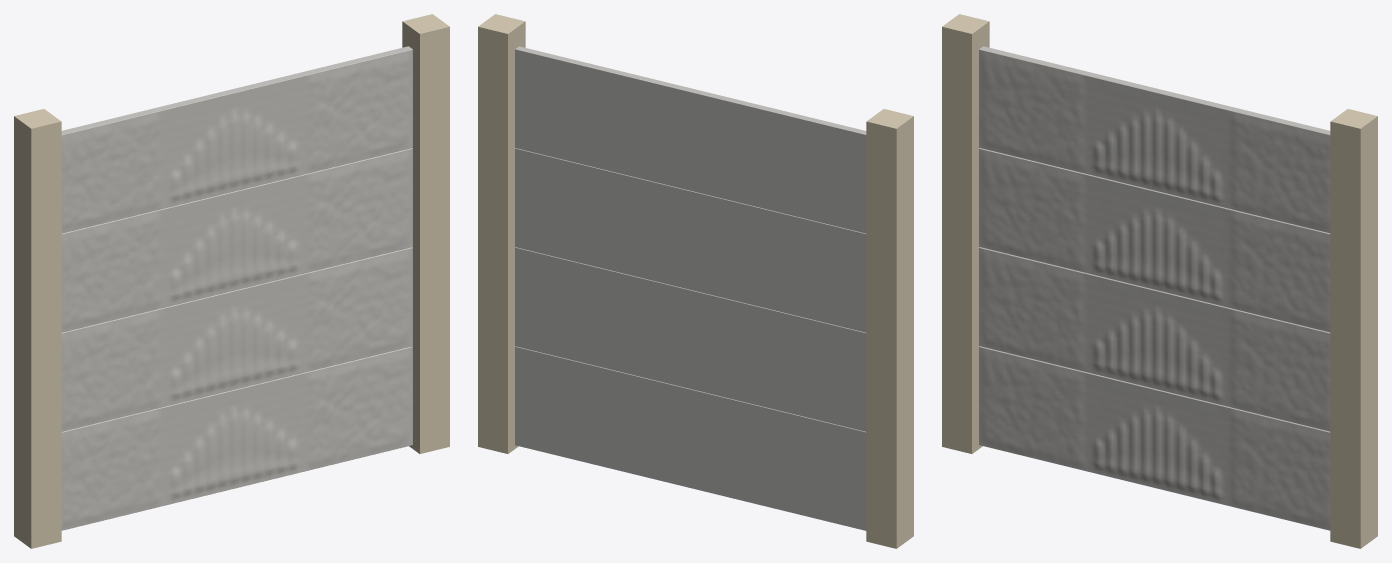
Rendered from terilgan.glb.
3 views of the same model, side by side, from view 1: azimuth 30°, elevation 25°; view 2: azimuth 150°, elevation 25°; view 3: azimuth 330°, elevation 25° (orthographic).
Visible parts, largest first — view 1: t3, t0, t2, t1, Ustun, Ustun.001; view 2: t3, t1, t0, t2, Ustun, Ustun.001; view 3: t3, t0, t2, t1, Ustun.001, Ustun.
Boxes of the visible parts, x1,y1,x2,y2 form: t3: (61, 46, 412, 233); t0: (61, 346, 412, 530); t2: (61, 148, 412, 332); t1: (61, 247, 412, 431); Ustun: (14, 109, 61, 548); Ustun.001: (402, 14, 449, 453); t3: (515, 46, 866, 233); t1: (515, 247, 866, 431); t0: (515, 346, 866, 530); t2: (515, 148, 866, 332); Ustun: (866, 109, 913, 548); Ustun.001: (478, 14, 525, 453); t3: (979, 46, 1330, 233); t0: (979, 346, 1330, 530); t2: (979, 148, 1330, 332); t1: (979, 247, 1330, 431); Ustun.001: (1330, 109, 1377, 548); Ustun: (942, 14, 989, 453).
Bounding box in the file's own units: 2.22 × 2.13 × 0.16.
